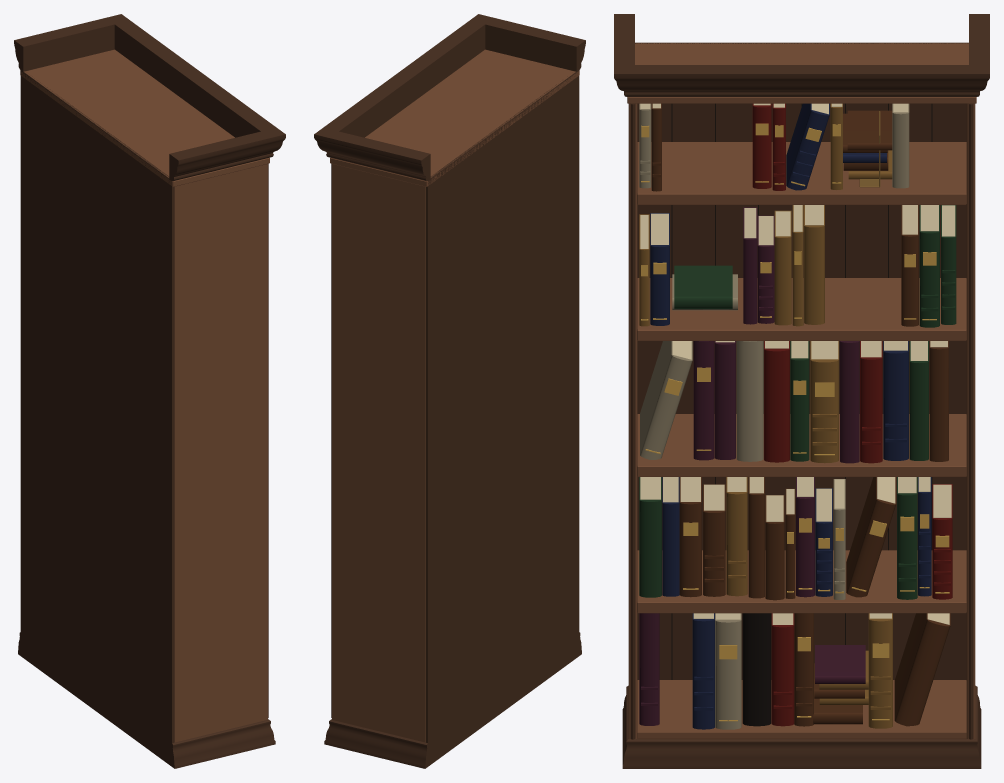
Rendered from bookcase@1.glb.
The picture shows the model from 3 angles, left to right: view 1: azimuth 30°, elevation 25°; view 2: azimuth 150°, elevation 25°; view 3: azimuth 270°, elevation 25°; orthographic projection. The views are drawn at different scales.
Parts seen in each view (by area): view 1: rueckwand, korpus, profile; view 2: rueckwand, korpus, profile; view 3: korpus, rueckwand, profile, buecher1, buecher7, buecher5, buecher2, buchschnitt, buecher3, buecher6, buecher0, goldpraegung (+2 smaller).
Part boxes in pixels (x1,y1,x2,y2): rueckwand: (20,70,174,763); korpus: (20,49,269,742); profile: (14,14,285,768); rueckwand: (425,70,579,763); korpus: (330,49,579,742); profile: (314,14,585,768); korpus: (627,43,976,739); rueckwand: (635,42,968,679); profile: (614,14,989,768); buecher1: (651,103,950,726); buecher7: (639,207,865,725); buecher5: (639,103,892,728); buecher2: (639,205,956,599); buchschnitt: (640,103,955,624); buecher3: (650,103,931,729); buecher6: (639,103,909,729); buecher0: (752,103,952,726); goldpraegung: (641,123,949,721).
Bounding box in the file's own units: 0.368 × 2 × 0.976.
